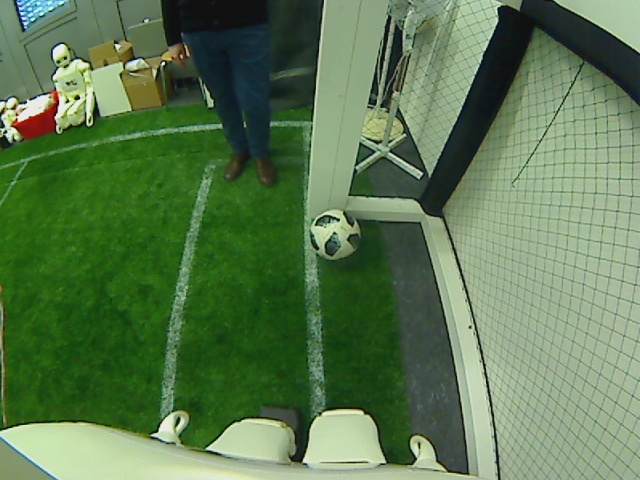ball: (311, 208, 364, 260)
